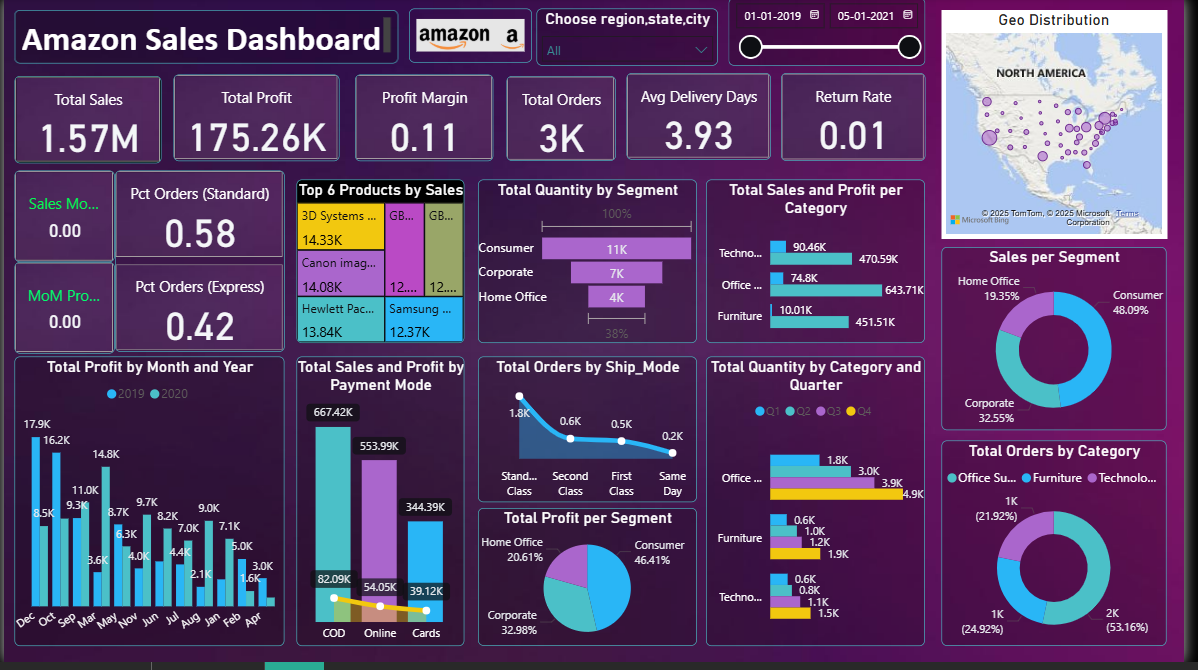

The dashboard page shown, as its layout file describes it:
{"tool":"powerbi","page":{"name":"Page 1","canvas":[1280,720],"ordinal":0},"visuals":[{"type":"textbox","box":[10.9,12.5,416.1,57.9],"z":1},{"type":"image","box":[439.2,11.4,133.4,58.6],"z":2},{"type":"cardVisual","fields":{"Data":["Amazon_FactSales.Total Sales"]},"box":[11.4,84.6,159.4,94.3],"z":3},{"type":"cardVisual","fields":{"Data":["Amazon_FactSales.Total Profit"]},"box":[184.6,82.9,179.9,93.8],"z":5},{"type":"cardVisual","fields":{"Data":["Amazon_FactSales.Total Orders"]},"box":[544.3,84.5,118.9,92.3],"z":6},{"type":"cardVisual","fields":{"Data":["Amazon_FactSales.Profit Margin"]},"box":[380.1,82.9,150.2,93.8],"z":7},{"type":"cardVisual","fields":{"Data":["Amazon_FactSales.Avg Delivery Days"]},"box":[675.7,81.3,156.4,93.8],"z":8},{"type":"cardVisual","fields":{"Data":["Amazon_FactSales.Return Rate"]},"box":[843.1,81.3,156.4,95.4],"z":9},{"type":"donutChart","title":"Sales per Segment","fields":{"Category":["Amazon_FactSales.Segment"],"Y":["Amazon_FactSales.Total Sales"]},"box":[1016.6,270,244,198.4],"z":10},{"type":"clusteredBarChart","title":"Total Sales and Profit per Category","fields":{"Y":["Amazon_FactSales.Total Profit","Amazon_FactSales.Total Sales"],"Category":["Amazon_FactSales.Category Hierarchy.Category","Amazon_FactSales.Category Hierarchy.Sub_Category"]},"box":[761.2,196.8,237.5,177.3],"z":11},{"type":"treemap","title":"Top 6 Products by Sales","fields":{"Details":["Amazon_FactSales.Product_Name"],"Values":["Amazon_FactSales.Total Sales"]},"box":[317.2,196.8,182.2,177.3],"z":12},{"type":"lineStackedColumnComboChart","title":"Total Sales and Profit by Payment Mode","fields":{"Category":["Amazon_FactSales.Payment_Mode"],"Y":["Amazon_FactSales.Total Sales"],"Y2":["Amazon_FactSales.Total Profit (ShipDate)"]},"box":[317.2,388.7,182.2,313.9],"z":13},{"type":"map","title":"Geo Distribution","fields":{"Category":["DimGeo.Region Hierarchy.Region","DimGeo.Region Hierarchy.State","DimGeo.Region Hierarchy.City"],"Size":["Amazon_FactSales.Total Sales"]},"box":[1016.6,13,244,247.2],"z":14},{"type":"funnel","fields":{"Y":["Amazon_FactSales.Total Quantity"],"Category":["Amazon_FactSales.Segment"]},"box":[514,196.8,237.5,177.3],"z":15},{"type":"clusteredColumnChart","fields":{"Category":["DimDate.Month"],"Y":["Amazon_FactSales.Total Profit"],"Series":["DimDate.Year"]},"box":[11.4,388.7,292.8,313.9],"z":16},{"type":"areaChart","fields":{"Y":["Amazon_FactSales.Total Orders"],"Category":["Amazon_FactSales.Ship_Mode"]},"box":[514,388.7,237.5,157.8],"z":17},{"type":"pieChart","title":"Total Profit per Segment","fields":{"Y":["Amazon_FactSales.Total Profit"],"Category":["Amazon_FactSales.Segment"]},"box":[514,553,237.5,149.6],"z":18},{"type":"clusteredBarChart","fields":{"Category":["Amazon_FactSales.Category"],"Y":["Amazon_FactSales.Total Quantity"],"Series":["DimDate.Quarter"]},"box":[761.2,388.7,237.5,313.9],"z":19},{"type":"donutChart","fields":{"Y":["Amazon_FactSales.Total Orders"],"Category":["Amazon_FactSales.Category Hierarchy.Category","Amazon_FactSales.Category Hierarchy.Sub_Category"]},"box":[1016.6,479.8,244,222.8],"z":20},{"type":"slicer","title":"Choose region,state,city","fields":{"Values":["DimGeo.Region Hierarchy.Region","DimGeo.Region Hierarchy.State","DimGeo.Region Hierarchy.City"]},"box":[577.4,11.4,196.8,61.8],"z":21},{"type":"cardVisual","fields":{"Data":["Amazon_FactSales.Pct Orders (Standard)","Amazon_FactSales.Pct Orders (Express)"]},"box":[120.4,187.1,183.8,196.8],"z":23},{"type":"cardVisual","fields":{"Data":["Amazon_FactSales.Sales MoM %"]},"box":[11.4,187.1,109,99.2],"z":24},{"type":"cardVisual","fields":{"Data":["Amazon_FactSales.MoM Profit Growth"]},"box":[11.4,286.3,109,99.2],"z":25},{"type":"slicer","fields":{"Values":["DimDate.Date"]},"box":[785.6,0,213.1,73.2],"z":26}]}

Visuals, with their boxes in screenshot pixels (x1, y1, x2, y2), scaled from the page's 1280x720 canvas onto the 1198x670 screenshot:
textbox: BBox(10, 12, 400, 66)
image: BBox(411, 11, 536, 65)
cardVisual - Amazon_FactSales.Total Sales: BBox(11, 79, 160, 166)
cardVisual - Amazon_FactSales.Total Profit: BBox(173, 77, 341, 164)
cardVisual - Amazon_FactSales.Total Orders: BBox(509, 79, 621, 165)
cardVisual - Amazon_FactSales.Profit Margin: BBox(356, 77, 496, 164)
cardVisual - Amazon_FactSales.Avg Delivery Days: BBox(632, 76, 779, 163)
cardVisual - Amazon_FactSales.Return Rate: BBox(789, 76, 935, 164)
"Sales per Segment" donutChart: BBox(951, 251, 1180, 436)
"Total Sales and Profit per Category" clusteredBarChart: BBox(712, 183, 935, 348)
"Top 6 Products by Sales" treemap: BBox(297, 183, 467, 348)
"Total Sales and Profit by Payment Mode" lineStackedColumnComboChart: BBox(297, 362, 467, 654)
"Geo Distribution" map: BBox(951, 12, 1180, 242)
funnel - Amazon_FactSales.Total Quantity x Amazon_FactSales.Segment: BBox(481, 183, 703, 348)
clusteredColumnChart - DimDate.Month x Amazon_FactSales.Total Profit: BBox(11, 362, 285, 654)
areaChart - Amazon_FactSales.Total Orders x Amazon_FactSales.Ship_Mode: BBox(481, 362, 703, 509)
"Total Profit per Segment" pieChart: BBox(481, 515, 703, 654)
clusteredBarChart - Amazon_FactSales.Category x Amazon_FactSales.Total Quantity: BBox(712, 362, 935, 654)
donutChart - Amazon_FactSales.Total Orders x Amazon_FactSales.Category Hierarchy.Category: BBox(951, 446, 1180, 654)
"Choose region,state,city" slicer: BBox(540, 11, 725, 68)
cardVisual - Amazon_FactSales.Pct Orders (Standard) x Amazon_FactSales.Pct Orders (Express): BBox(113, 174, 285, 357)
cardVisual - Amazon_FactSales.Sales MoM %: BBox(11, 174, 113, 266)
cardVisual - Amazon_FactSales.MoM Profit Growth: BBox(11, 266, 113, 359)
slicer - DimDate.Date: BBox(735, 0, 935, 68)
